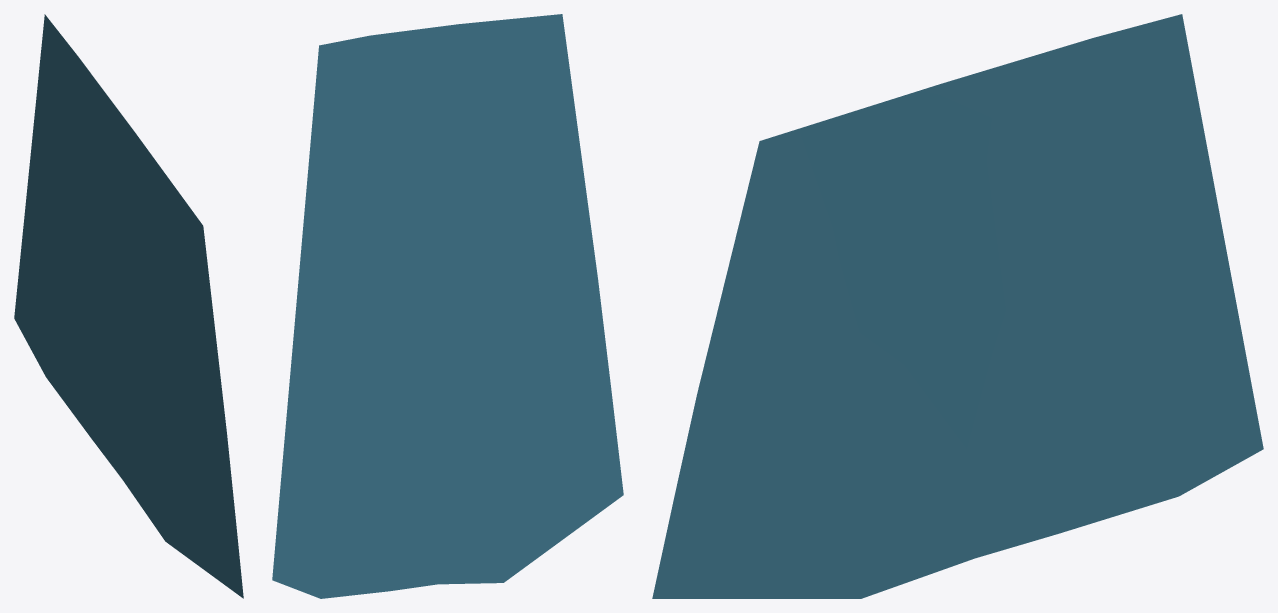
File: NexusC_Cloth_25.fbx
The picture shows the model from 3 angles, left to right: view 1: azimuth 30°, elevation 25°; view 2: azimuth 150°, elevation 25°; view 3: azimuth 270°, elevation 25°; orthographic projection. The views are drawn at different scales.
Visible parts, largest first — view 1: polySurface19; view 2: polySurface19; view 3: polySurface19.
Part boxes in pixels (x1,y1,x2,y2): polySurface19: (14,14,243,598); polySurface19: (272,14,623,598); polySurface19: (652,14,1263,598).
Size of the model in its own units: 0.0313 by 62.97 by 59.66.
